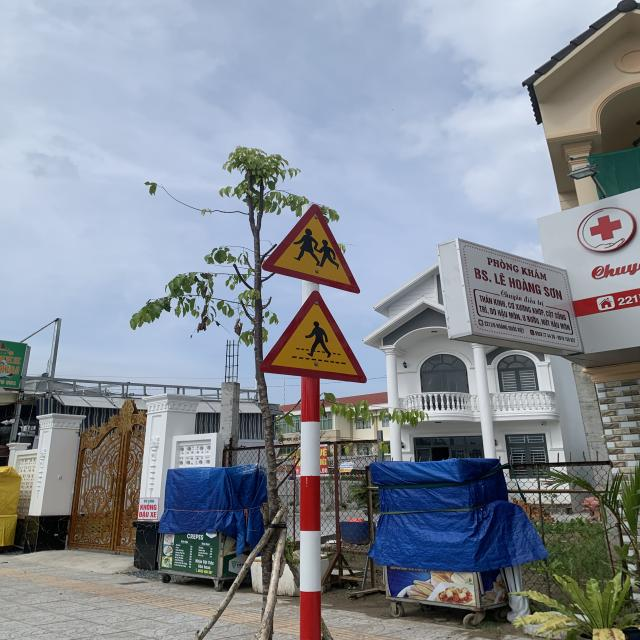Duong_Nguoi_Di_Bo_Sang_Ngang: (256, 289, 368, 384)
Vong_Xuyen: (260, 203, 360, 294)
